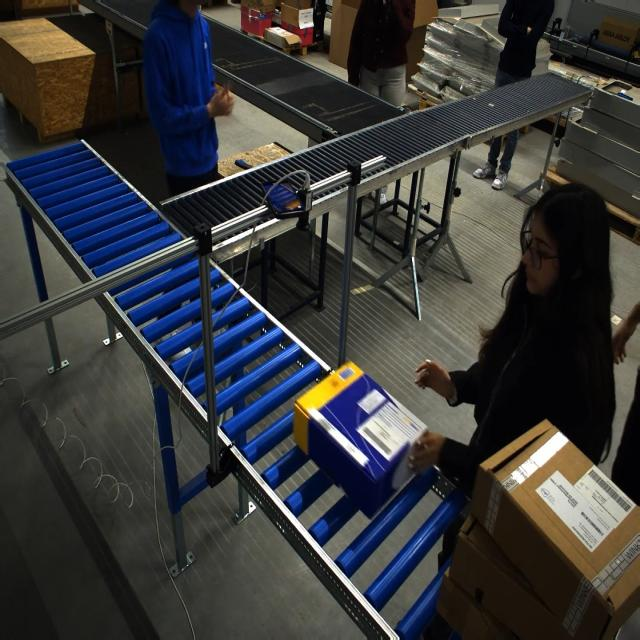box: (438, 426, 640, 639)
